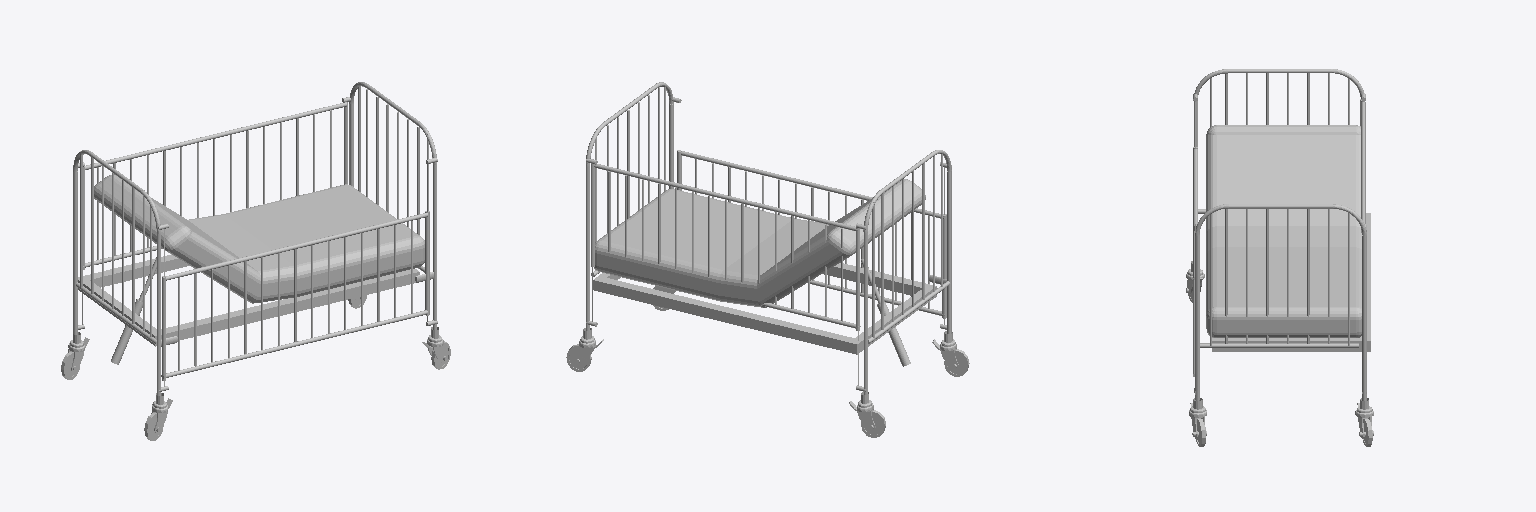
File: KID BED FOR HOSPITAL.obj
3 views of the same model, side by side, from view 1: azimuth 30°, elevation 25°; view 2: azimuth 150°, elevation 25°; view 3: azimuth 270°, elevation 25° (orthographic).
Visible parts, largest first — view 1: Cube, Cube_, Cylin58, Cylin65, Cylinder_3, Cylin42, Cube_2, Cylin46, Cylinder; view 2: Cube, Cube_, Cylinder_3, Cylin65, Cylin46, Cube_2, Cylin38, Cylin42; view 3: Cube, Cube_, Cylin38, Cylinder, Cylin52, Cylinder_3.
Boxes of the visible parts, x1,y1,x2,y2 form: Cube: [94, 175, 424, 303]; Cube_: [78, 254, 419, 346]; Cylin58: [161, 310, 427, 378]; Cylin65: [166, 213, 427, 280]; Cylinder_3: [85, 102, 346, 169]; Cylin42: [73, 171, 77, 334]; Cube_2: [90, 259, 189, 287]; Cylin46: [157, 233, 160, 395]; Cylinder: [433, 165, 436, 329]; Cube: [594, 179, 925, 307]; Cube_: [593, 263, 936, 354]; Cylinder_3: [594, 164, 857, 230]; Cylin65: [681, 151, 944, 218]; Cylin46: [947, 171, 951, 333]; Cube_2: [607, 267, 921, 295]; Cylin38: [586, 166, 589, 330]; Cylin42: [864, 233, 867, 394]; Cube: [1206, 125, 1361, 337]; Cube_: [1212, 213, 1370, 351]; Cylin38: [1362, 235, 1366, 400]; Cylinder: [1195, 235, 1199, 400]; Cylin52: [1200, 343, 1358, 347]; Cylinder_3: [1361, 102, 1365, 232].
Bounding box in the file's own units: 158 × 115 × 82.65.